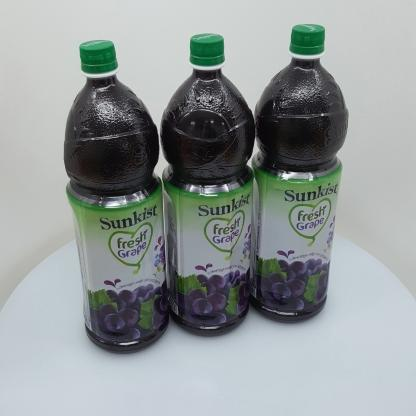-------50_1-5L: (63, 40, 170, 354), (248, 24, 348, 324), (160, 33, 255, 337)
